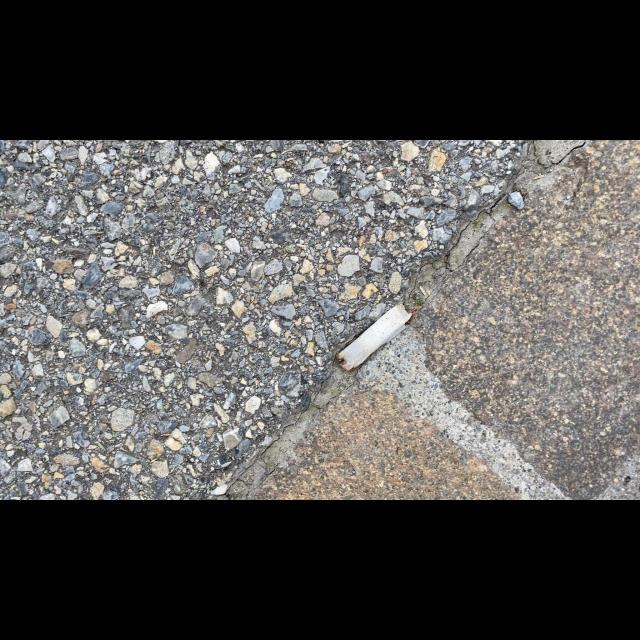cigarette: (335, 303, 413, 372)
